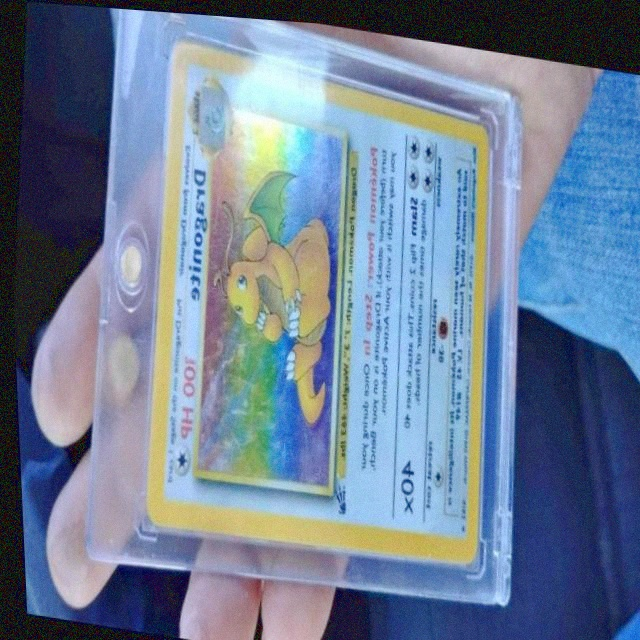card: (140, 32, 490, 559)
